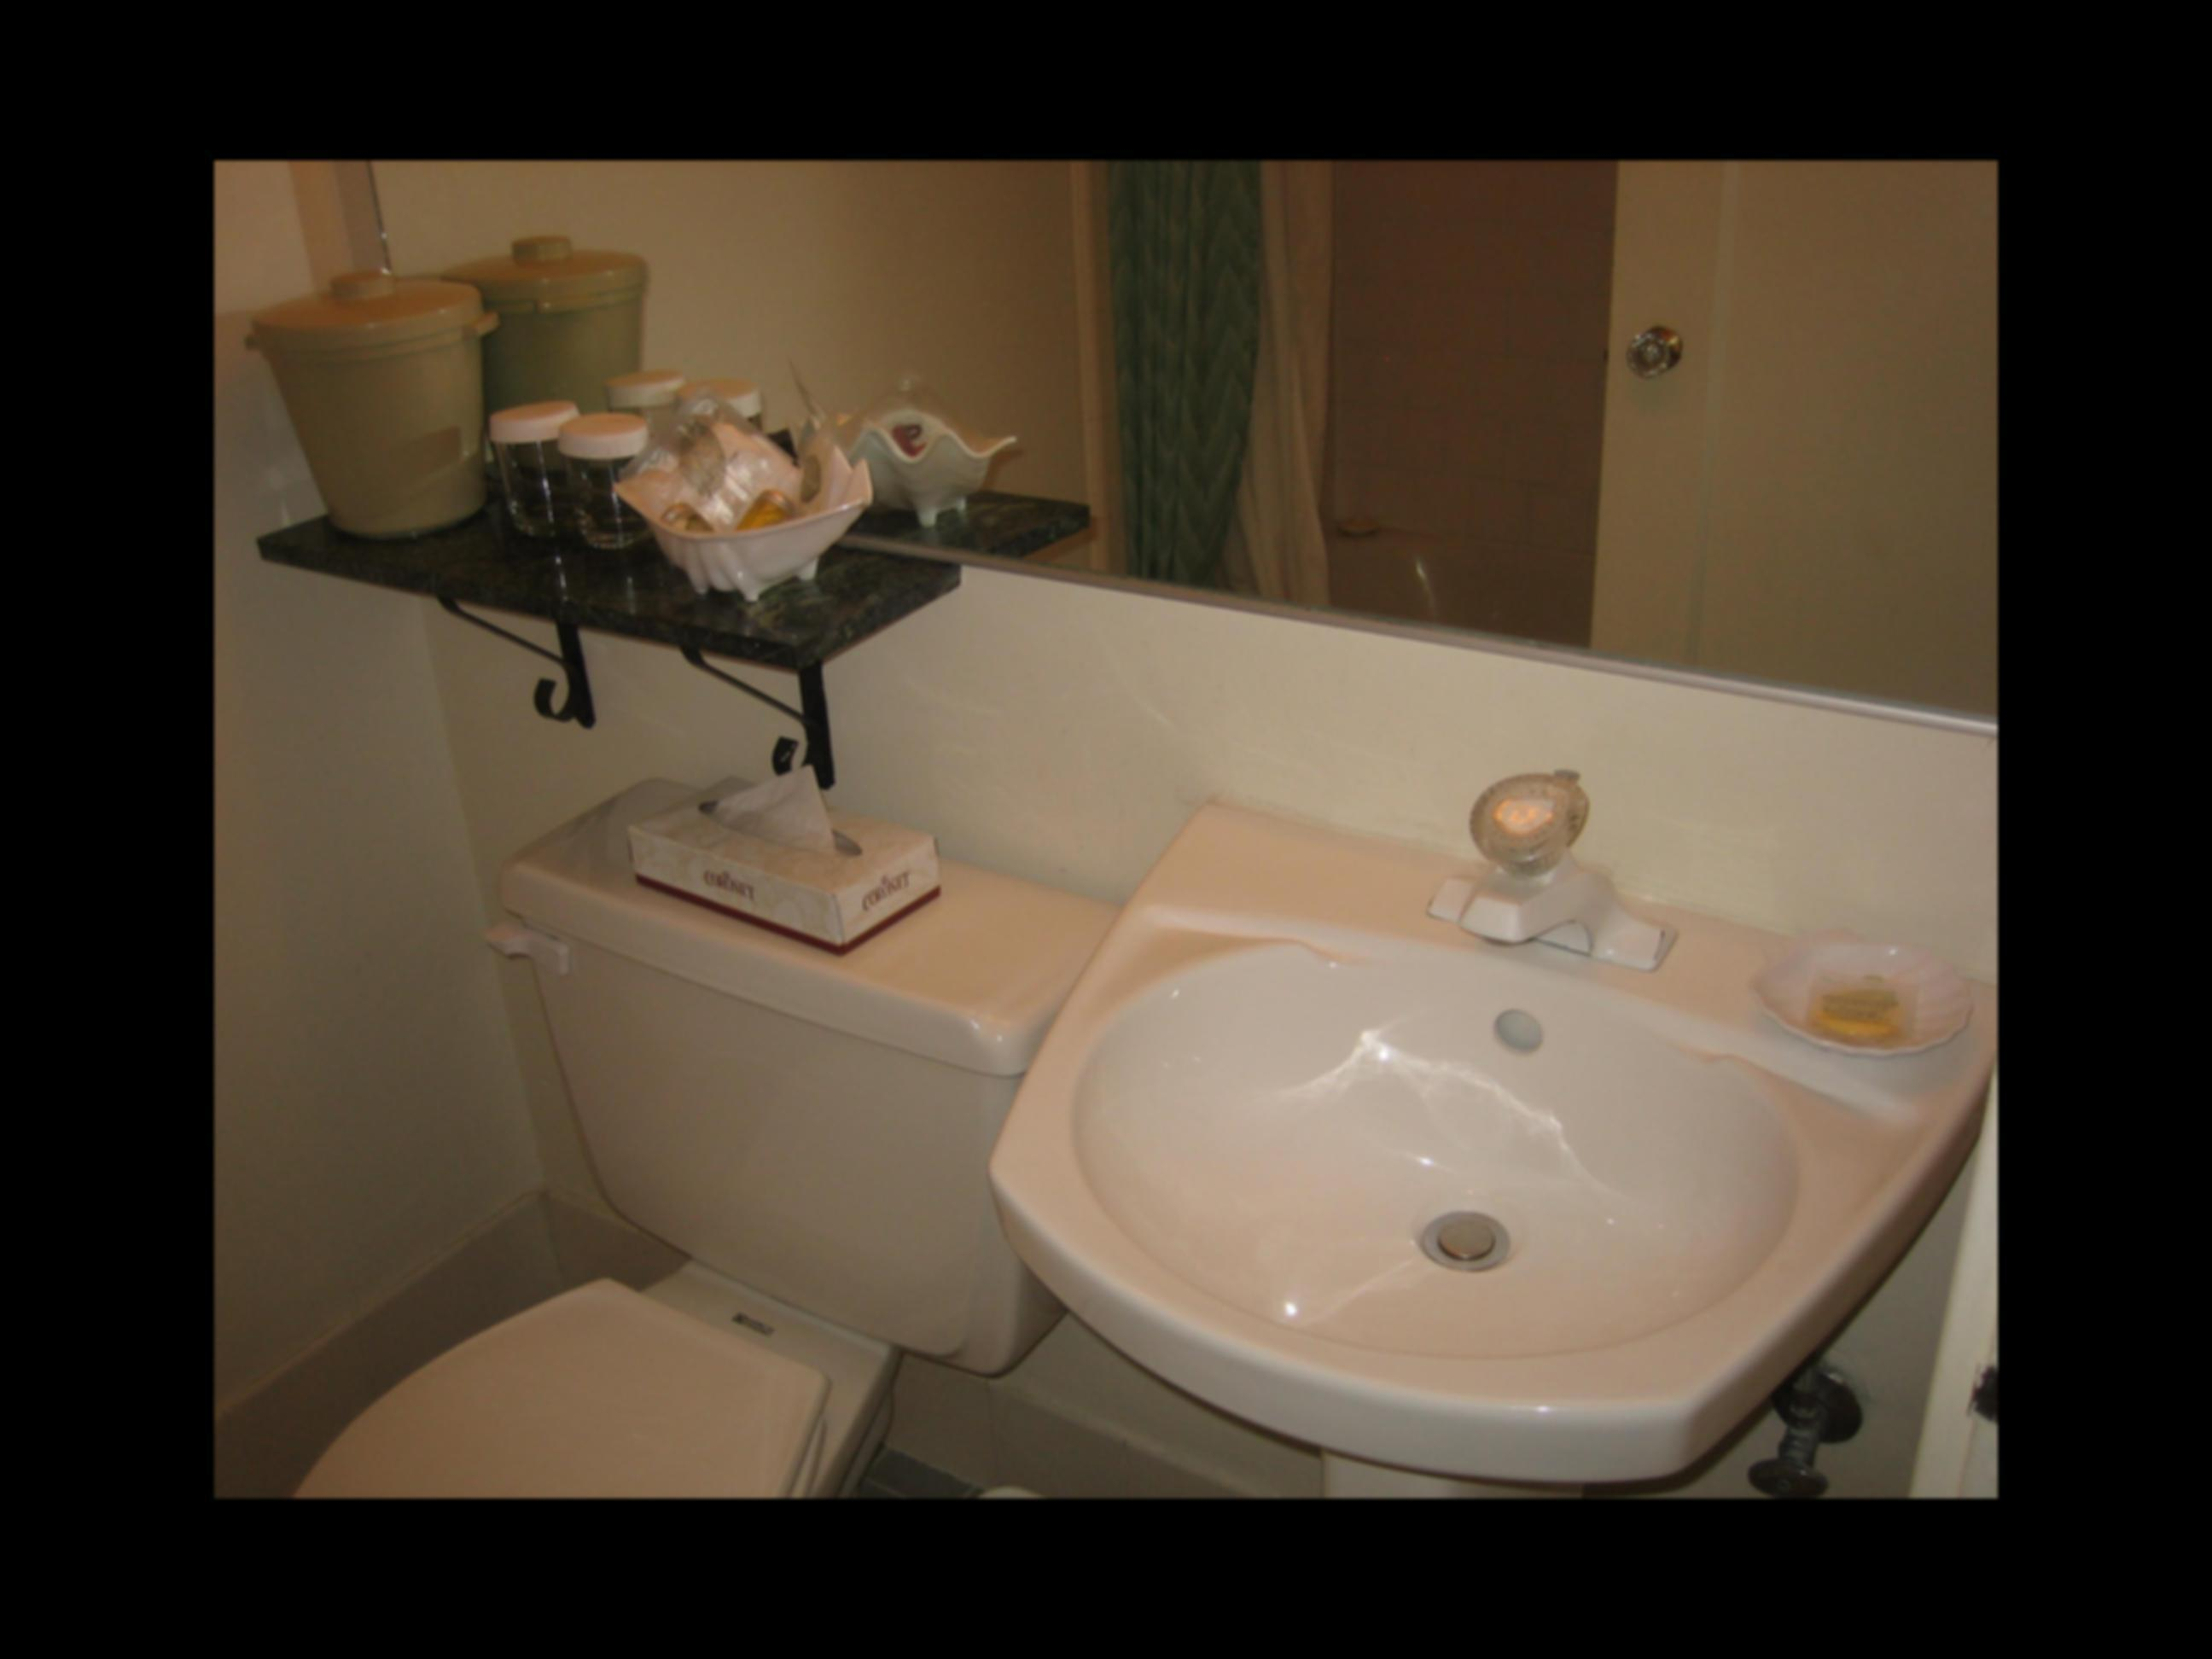Lavamanos: (1038, 769, 1975, 1493)
Sanitario: (305, 782, 1033, 1483)
